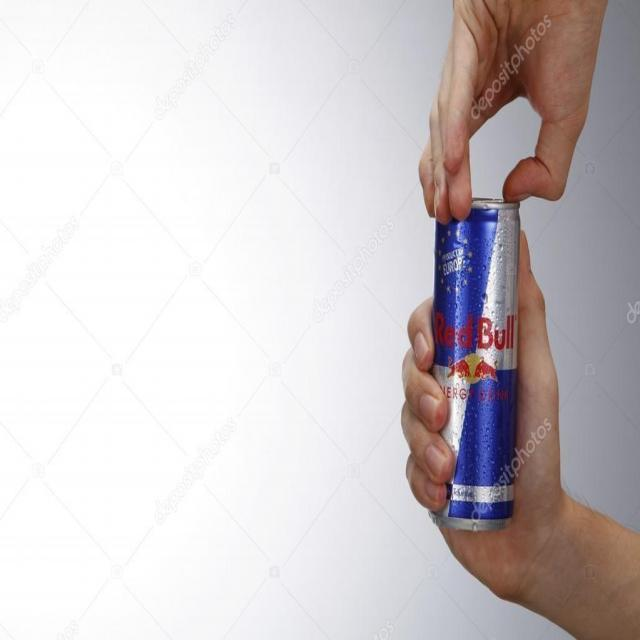tin can: (429, 195, 524, 539)
